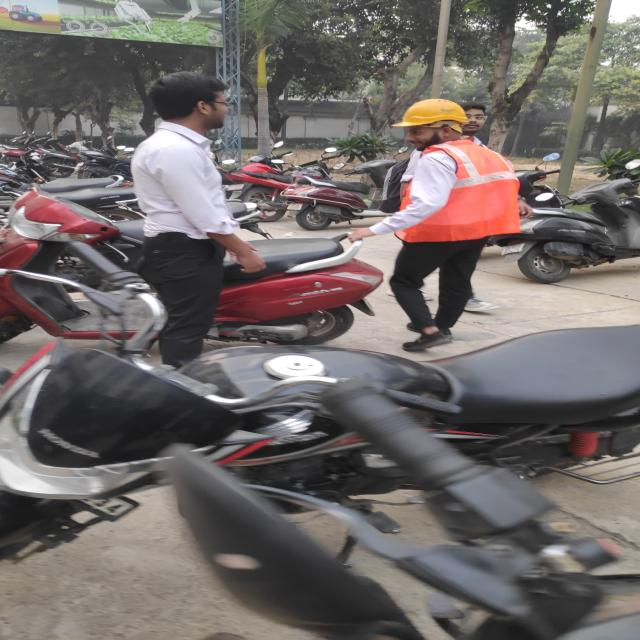safe: (384, 97, 516, 356)
unsafe: (124, 87, 254, 353)
